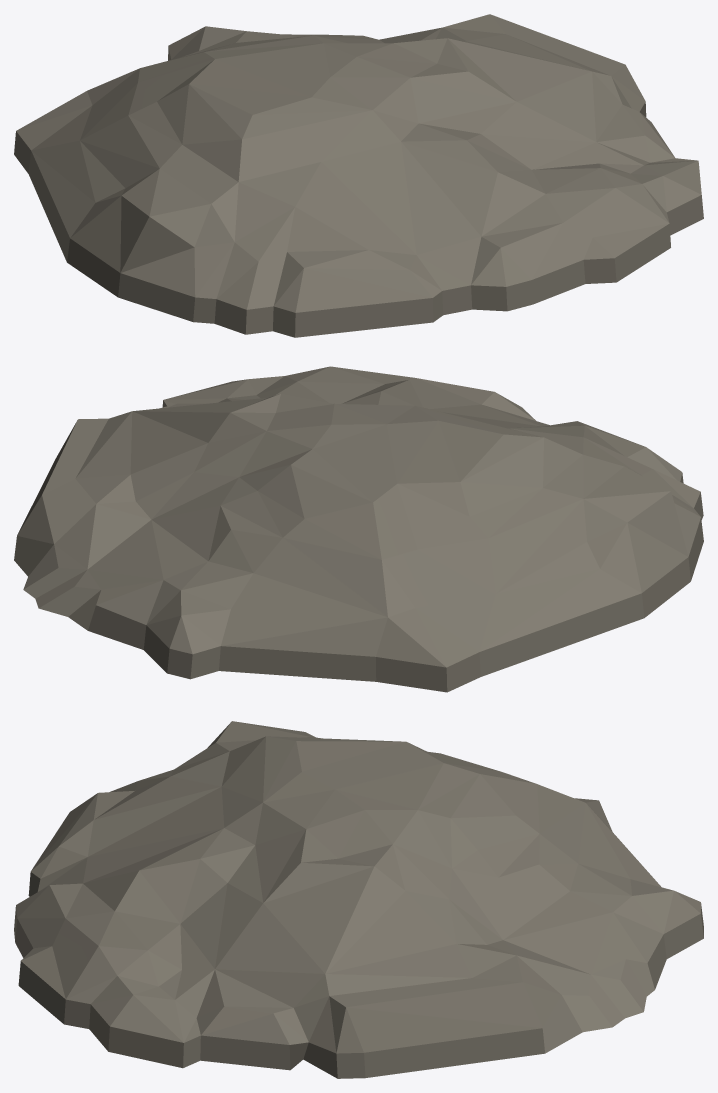
Rendered from rock__debris2_light.glb.
3 renders of one model, top to bottom at view 1: azimuth 30°, elevation 25°; view 2: azimuth 150°, elevation 25°; view 3: azimuth 270°, elevation 25°, orthographic. The views are drawn at different scales.
Visible parts, largest first — view 1: debris2.light; view 2: debris2.light; view 3: debris2.light.
Boxes of the visible parts, <box> form: debris2.light: <box>14,14,703,337</box>; debris2.light: <box>14,366,703,692</box>; debris2.light: <box>14,721,703,1078</box>.
Size of the model in its own units: 5.21 by 1.09 by 5.24.
Materials: 1 (1 with a texture image).
